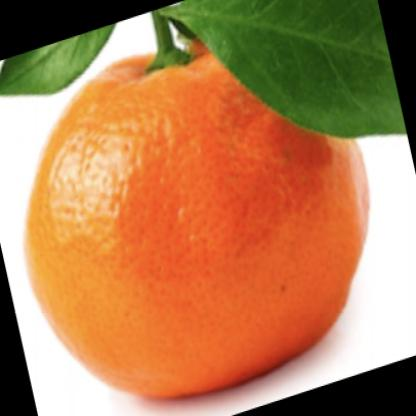orange: (20, 36, 382, 396)
